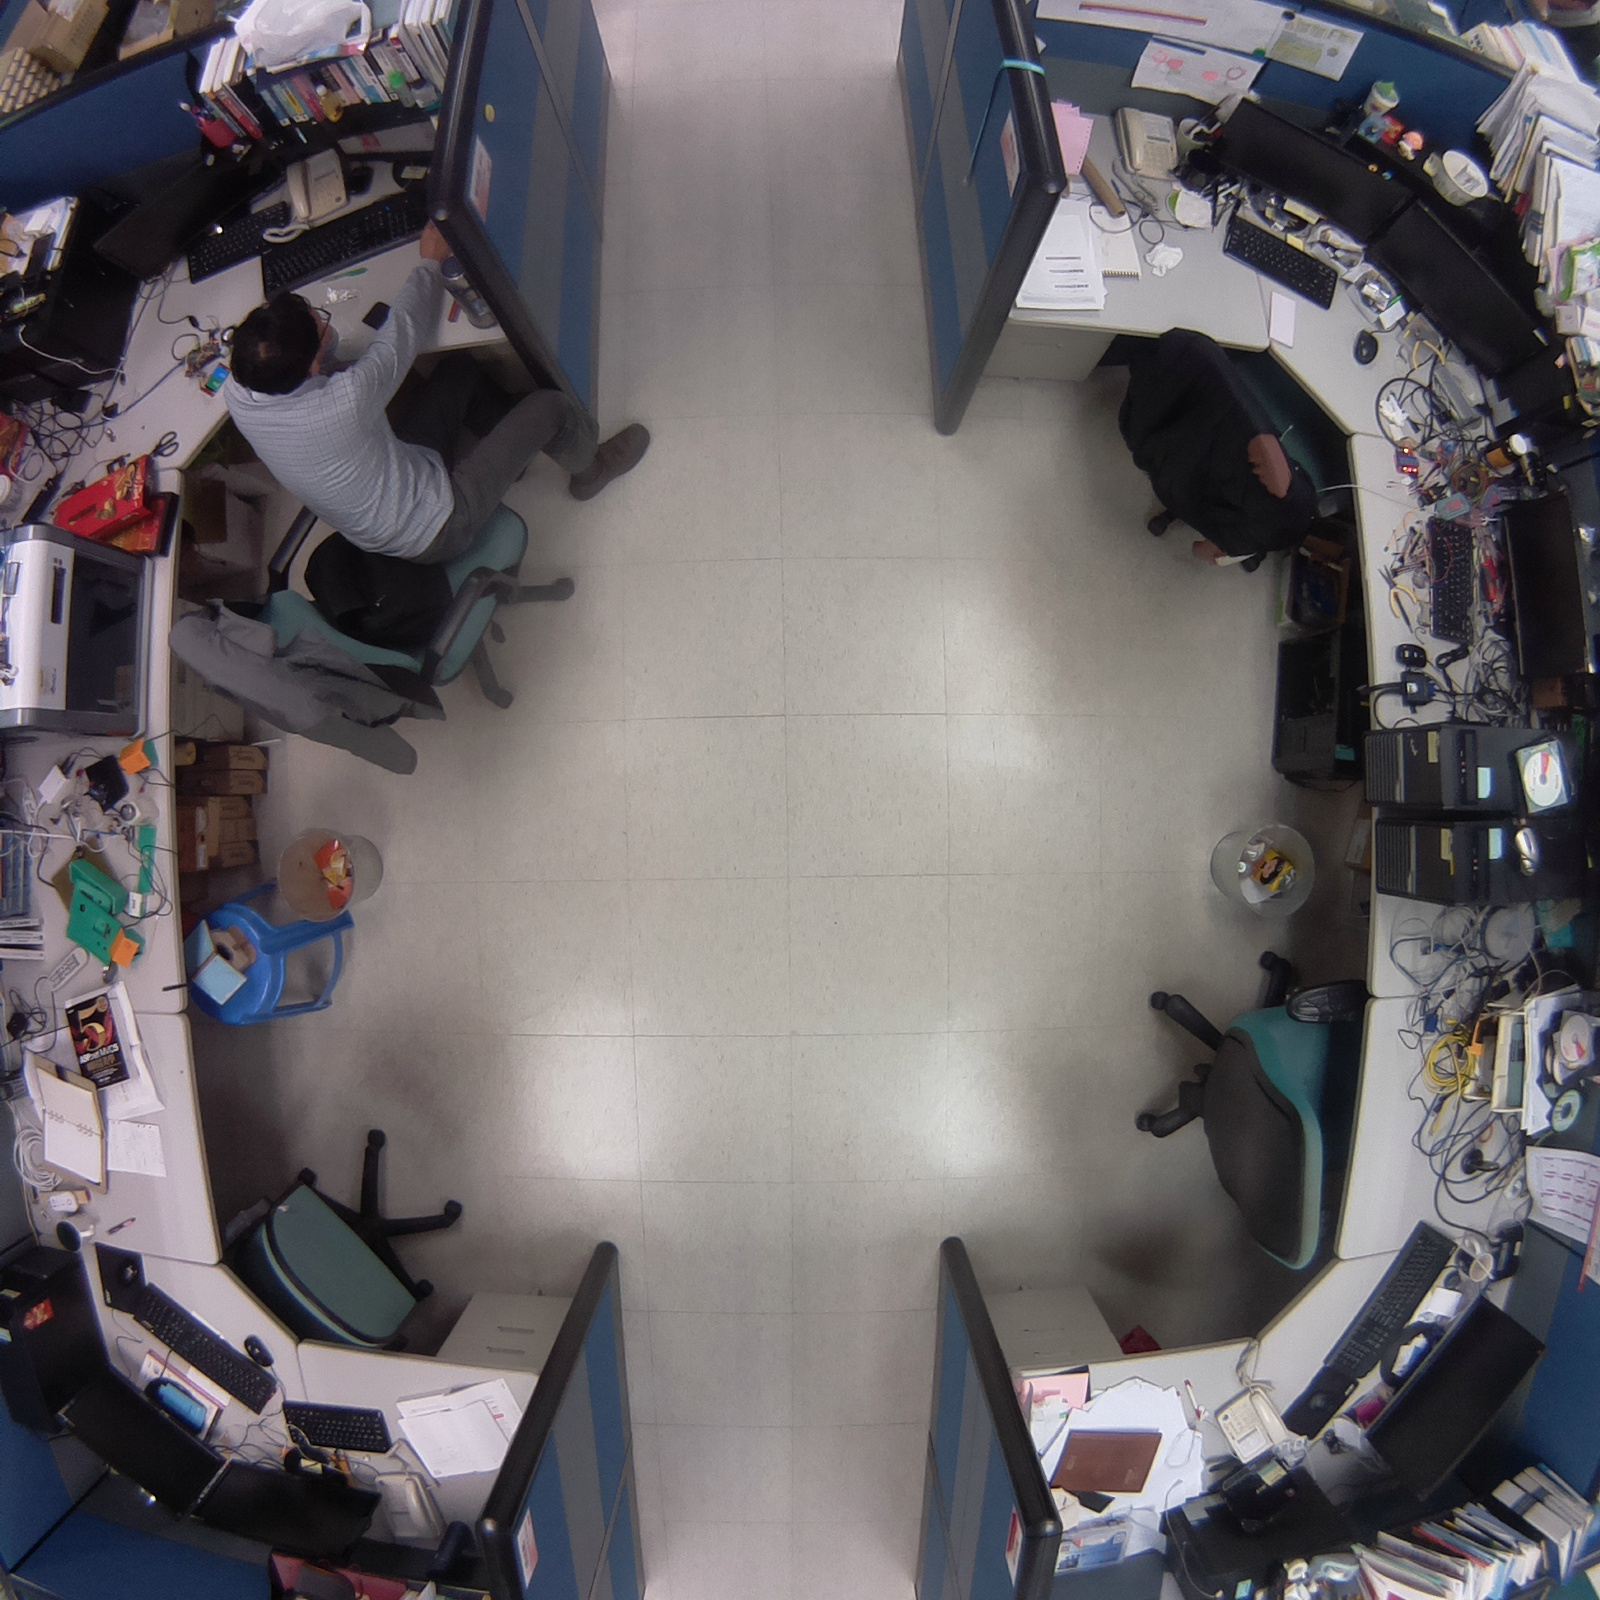chair: (1122, 935, 1377, 1289), (1103, 302, 1371, 588), (201, 1118, 484, 1368)
sitting: (147, 189, 690, 801)
